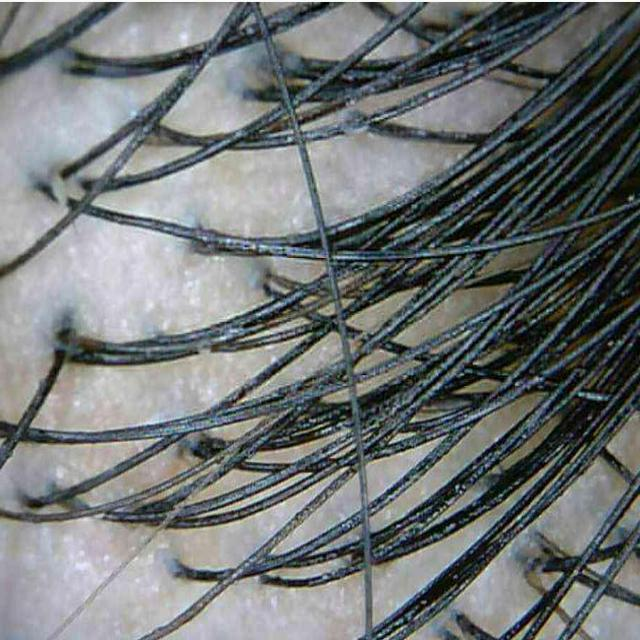o: (135, 232, 270, 332), (31, 520, 126, 605), (129, 540, 180, 612)
